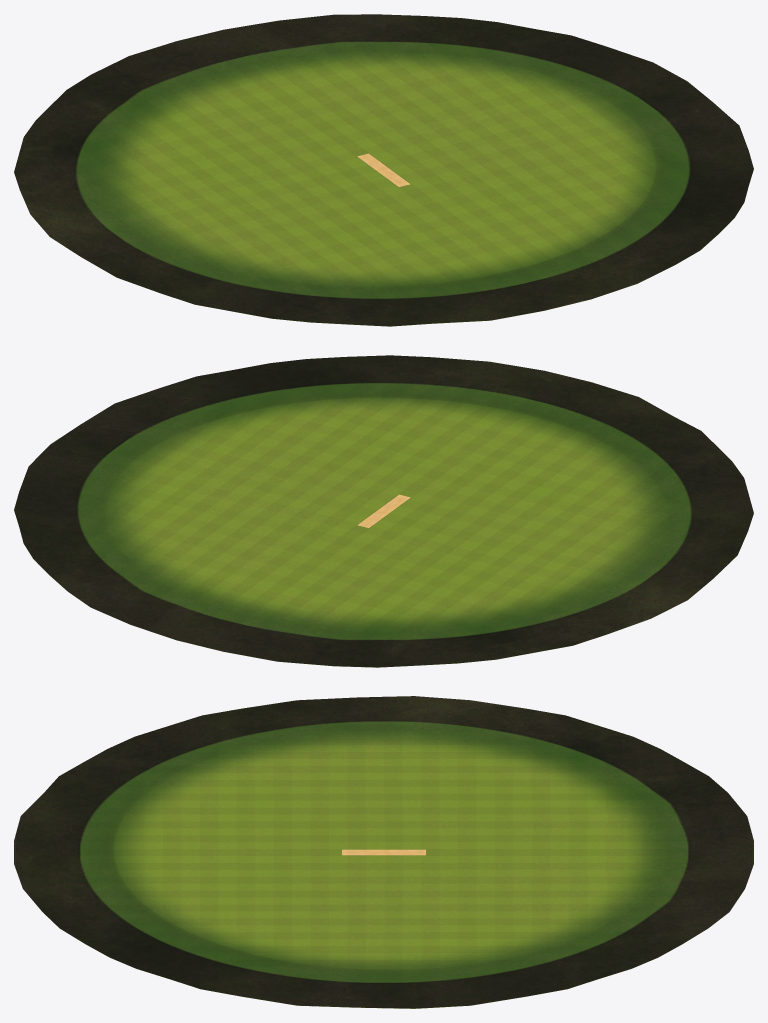
File: ground_2026-10-27b.glb
3 views of the same model, one above another, from view 1: azimuth 30°, elevation 25°; view 2: azimuth 150°, elevation 25°; view 3: azimuth 270°, elevation 25° (orthographic).
Parts seen in each view (by area): view 1: ground, ground_overlay; view 2: ground, ground_overlay; view 3: ground, ground_overlay, pitch.
Part boxes in pixels (x1=…): ground: x1=38, y1=42, x2=734, y2=326; ground_overlay: x1=14, y1=14, x2=753, y2=326; ground: x1=33, y1=383, x2=736, y2=667; ground_overlay: x1=14, y1=355, x2=753, y2=667; ground: x1=26, y1=722, x2=753, y2=1008; ground_overlay: x1=14, y1=696, x2=753, y2=1008; pitch: x1=342, y1=849, x2=425, y2=855.
Bounding box in the file's own units: 198 × 0.0287 × 198.
Materials: 3 (3 with a texture image).
